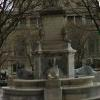Statue: (34, 2, 74, 55)
